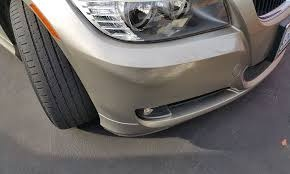Dent: (123, 59, 196, 88)
